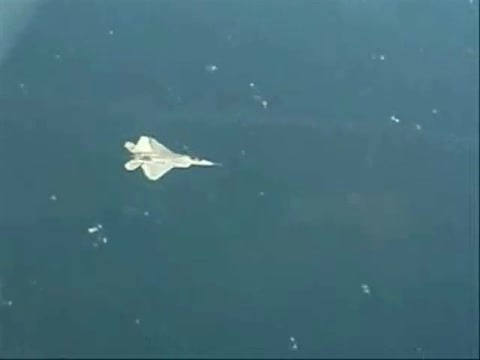aeroplane: (123, 132, 224, 183)
